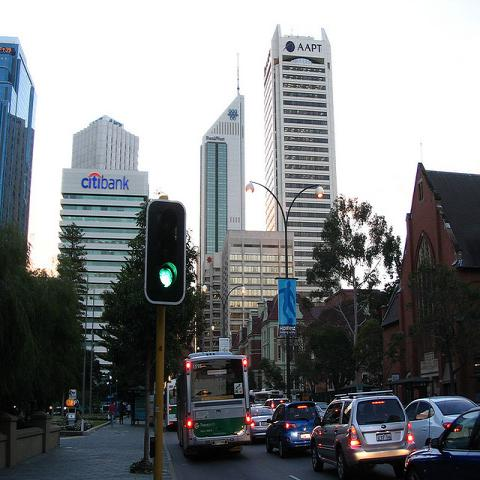bus: (172, 354, 252, 450), (164, 379, 178, 430)
car: (310, 389, 416, 479), (405, 392, 478, 449), (263, 404, 320, 460), (401, 447, 479, 479), (250, 404, 274, 442), (296, 400, 328, 419), (262, 398, 291, 411), (315, 404, 324, 422)
